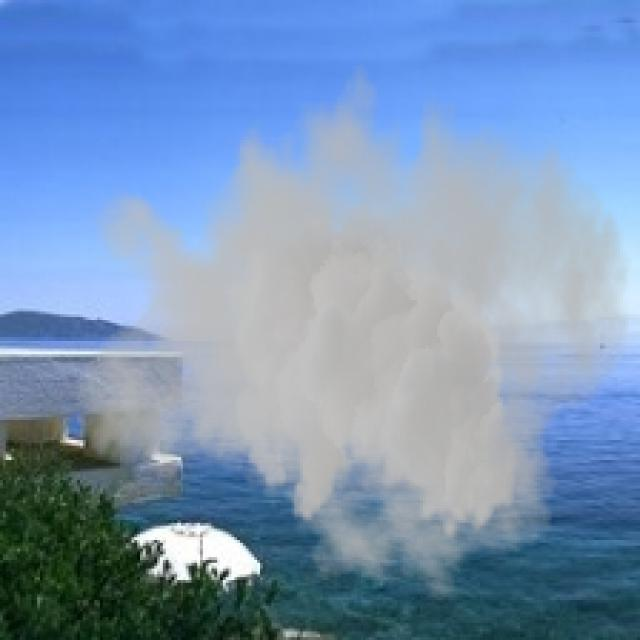Smoke: (71, 37, 632, 603)
